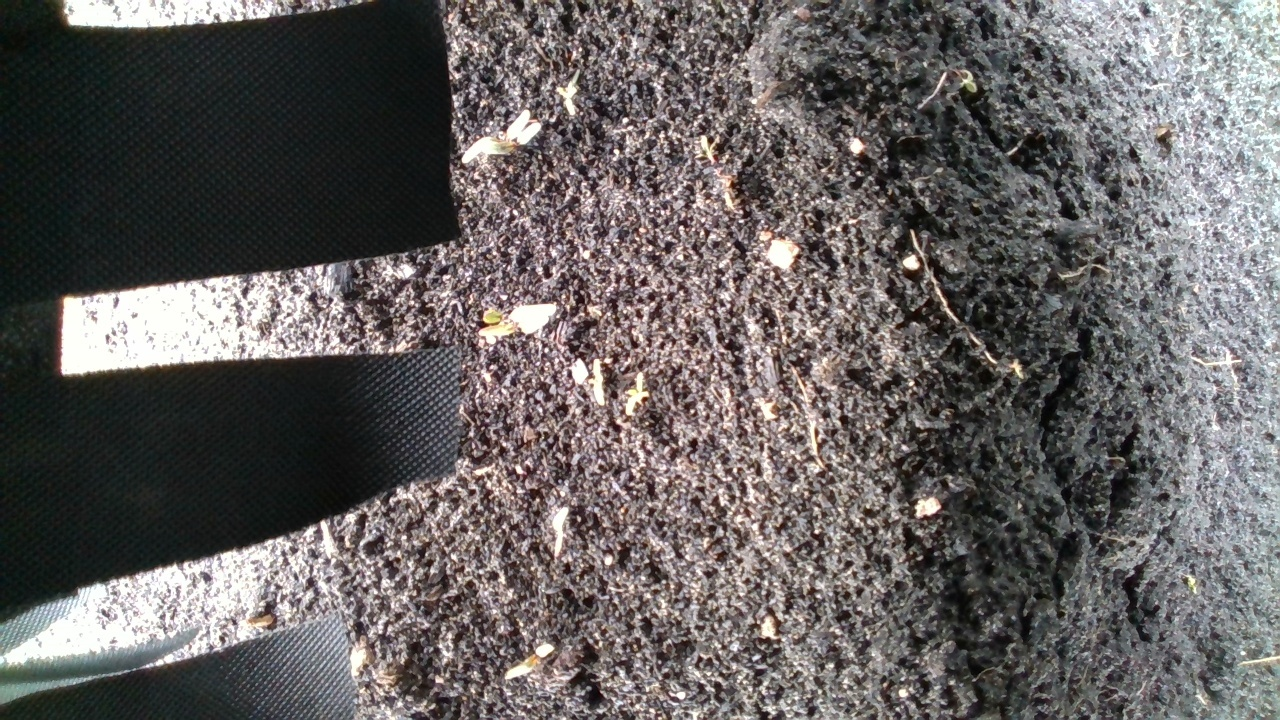weed: (495, 640, 560, 682)
